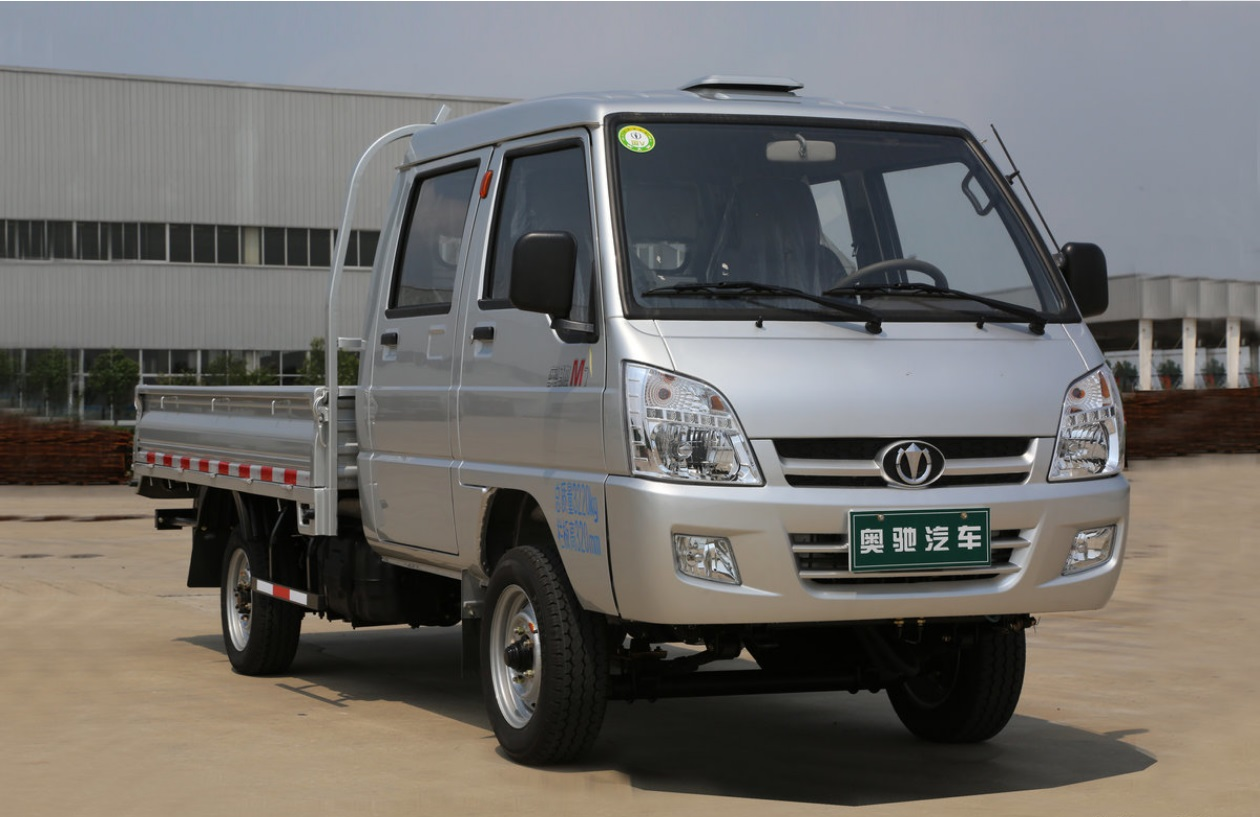truck: (127, 62, 1140, 765)
